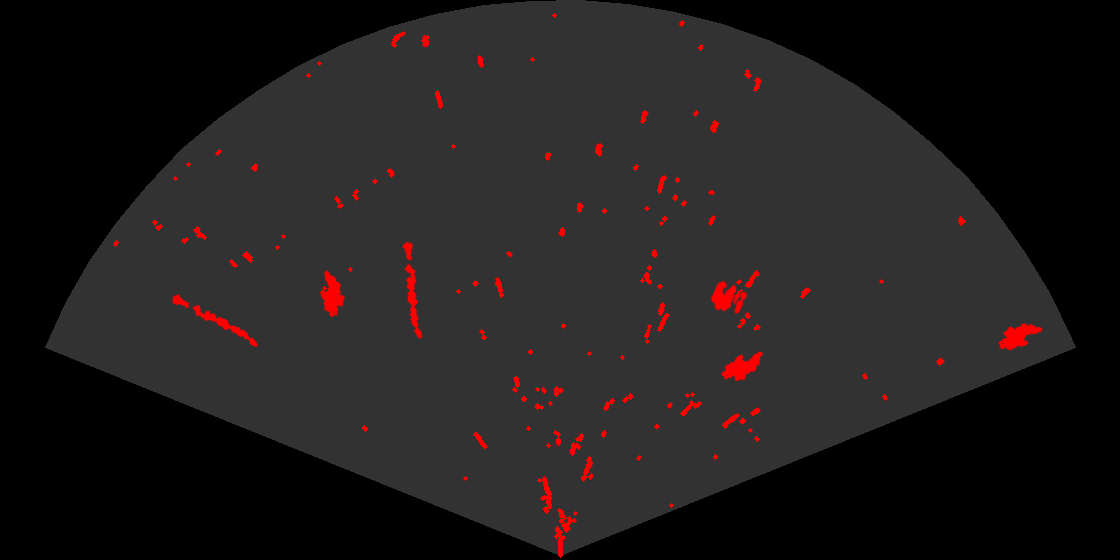AUV: (720, 350, 764, 383), (997, 322, 1044, 352), (319, 269, 346, 319)
ball: (709, 279, 749, 316)
chain: (170, 293, 260, 348), (400, 239, 424, 341)
